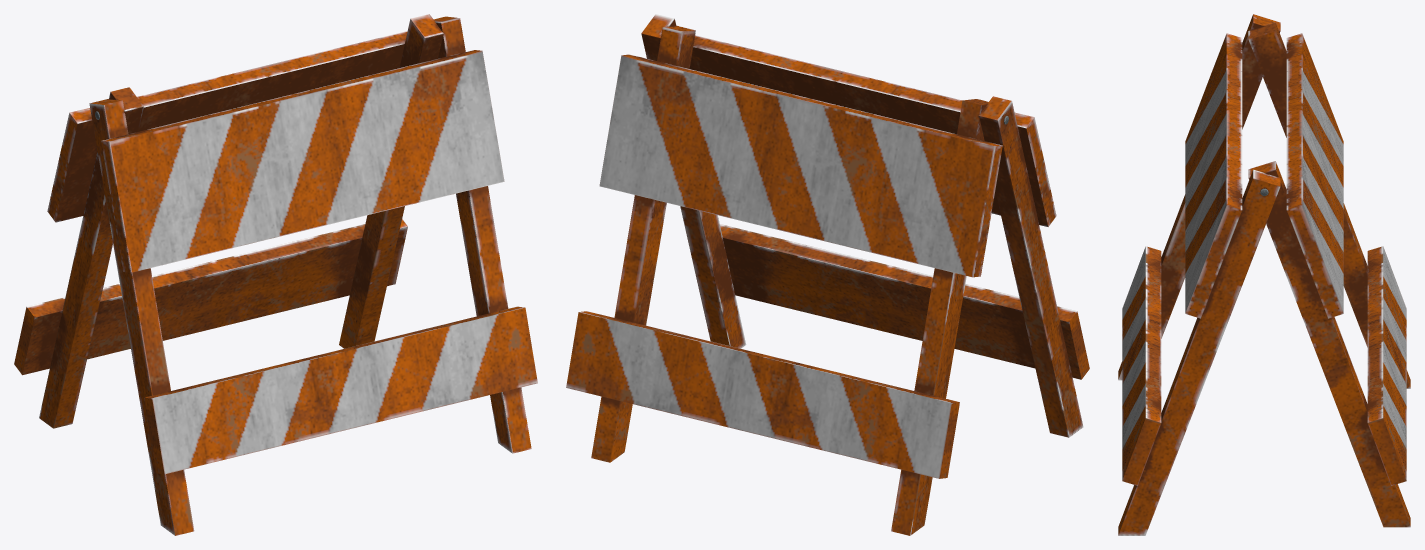
Rendered from Cavelete de sinalização.fbx.
The picture shows the model from 3 angles, left to right: view 1: azimuth 30°, elevation 25°; view 2: azimuth 150°, elevation 25°; view 3: azimuth 270°, elevation 25°; orthographic projection. The views are drawn at different scales.
Parts seen in each view (by area): view 1: Cube.004, Cube.003, Cube.001; view 2: Cube.004, Cube.003, Cube.001; view 3: Cube.001, Cube.004, Cube.003.
Part boxes in pixels (x1,y1,x2,y2): Cube.004: (47, 31, 504, 272); Cube.003: (14, 219, 537, 474); Cube.001: (39, 14, 531, 535); Cube.004: (599, 35, 1056, 277); Cube.003: (566, 224, 1089, 478); Cube.001: (591, 14, 1083, 535); Cube.001: (1118, 14, 1410, 535); Cube.004: (1185, 33, 1343, 318); Cube.003: (1122, 246, 1406, 485).
Bounding box in the file's own units: 90.31 × 87.53 × 64.89.
1 material, 1 textured.
